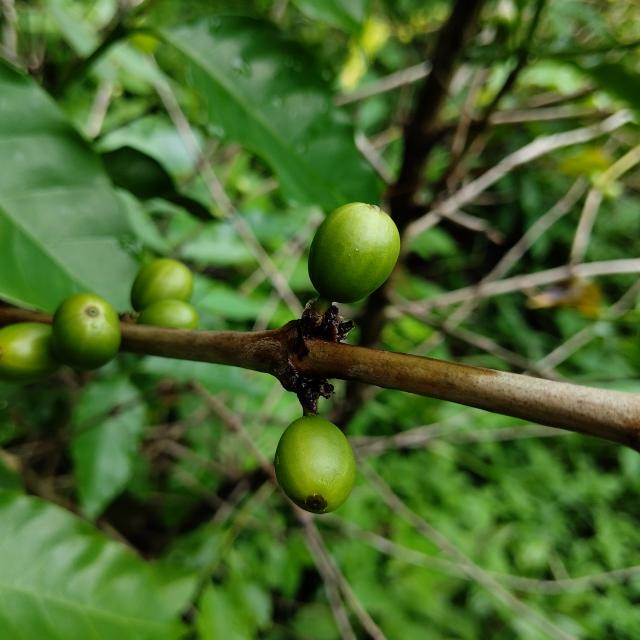green: (308, 202, 401, 303), (274, 416, 356, 515), (51, 293, 120, 370), (0, 323, 59, 382), (130, 258, 192, 311), (136, 299, 198, 329)
